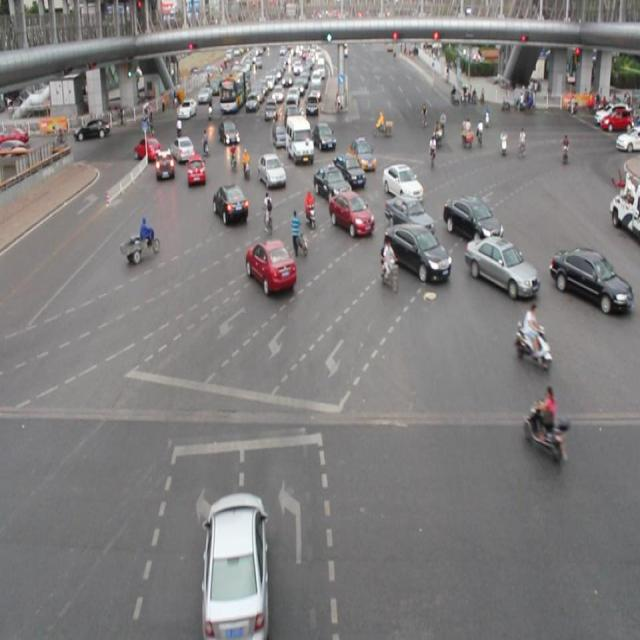car: (200, 489, 273, 640), (547, 246, 631, 315), (463, 234, 538, 301), (382, 221, 450, 286), (244, 236, 296, 296), (442, 195, 503, 244), (383, 193, 434, 240), (328, 189, 373, 240), (312, 161, 353, 206), (381, 161, 422, 205), (211, 182, 249, 228), (331, 152, 365, 188), (257, 153, 287, 190), (349, 134, 376, 174), (310, 118, 336, 155), (134, 134, 161, 166), (154, 146, 175, 181), (186, 151, 206, 187), (170, 136, 195, 164)
truck: (284, 112, 315, 168)
